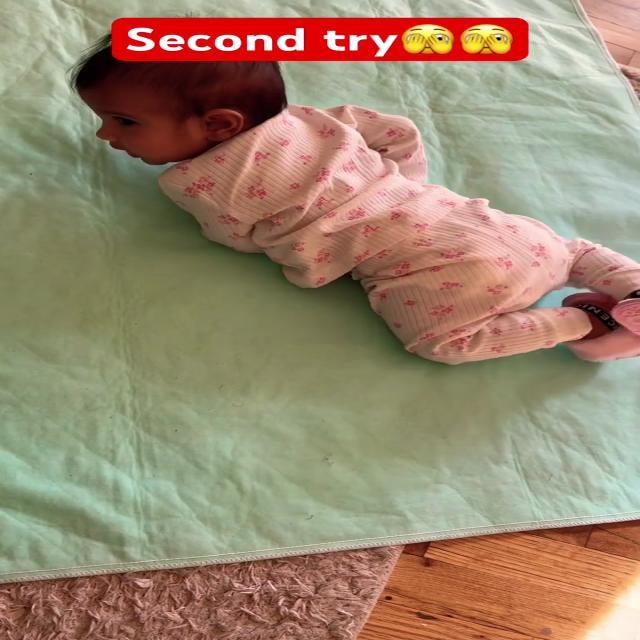baby: (71, 35, 640, 377)
